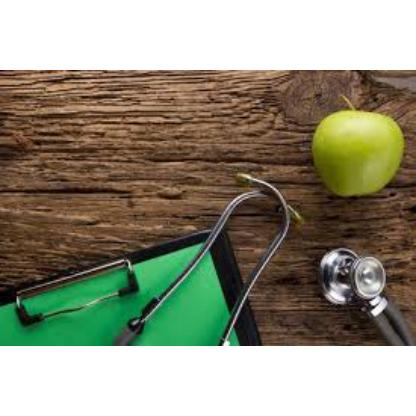apple: (314, 102, 404, 196)
